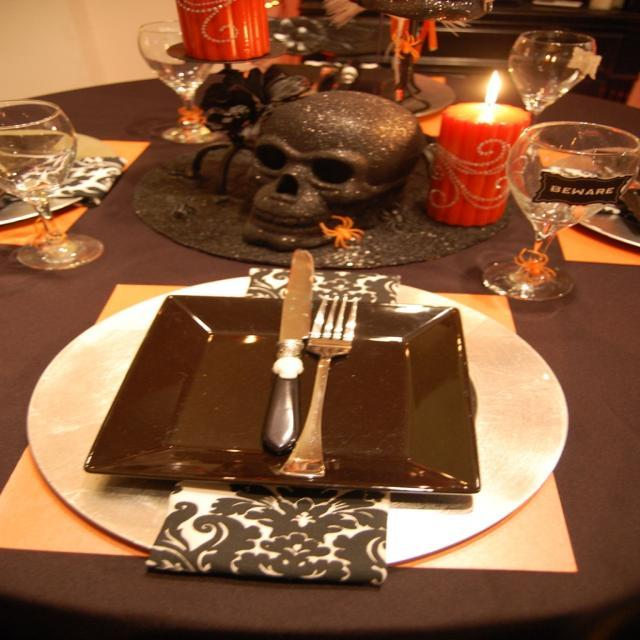Knife: (262, 249, 314, 453)
